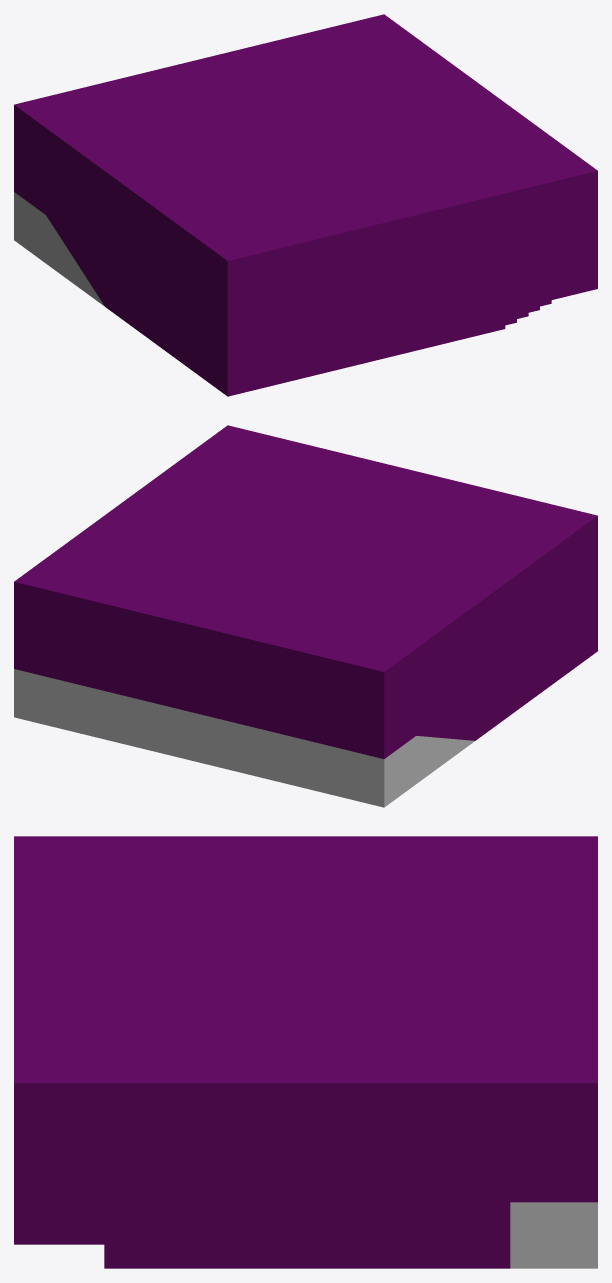
The model's file is debug_level.fbx.
3 views of the same model, one above another, from view 1: azimuth 30°, elevation 25°; view 2: azimuth 150°, elevation 25°; view 3: azimuth 270°, elevation 25° (orthographic). The views are drawn at different scales.
Parts seen in each view (by area): view 1: Group1; view 2: Group1; view 3: Group1.
Boxes of the visible parts, x1,y1,x2,y2 form: Group1: (14,14,597,396); Group1: (14,425,597,807); Group1: (14,836,597,1268).
Size of the model in its own units: 20 by 7 by 20.
